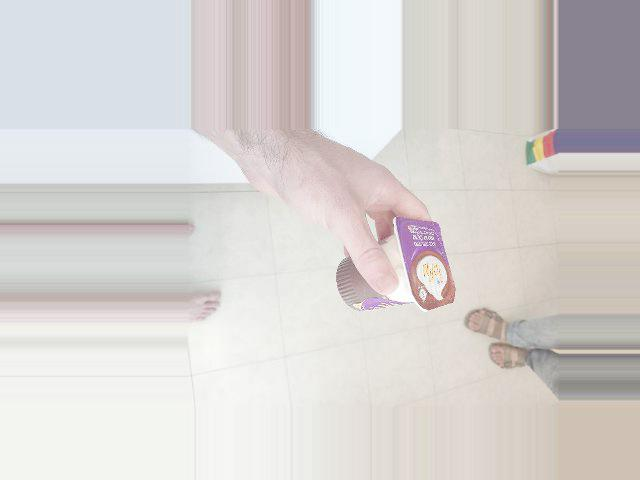milky: (376, 231, 464, 355)
